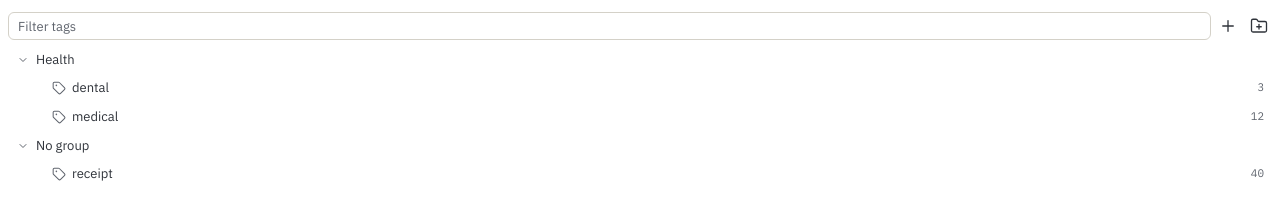
Test: TagTree › stays in the Tab order when the focused tag is filtered away
Step 1. Click the text "medical" → (95, 116), box [72,108,118,125]
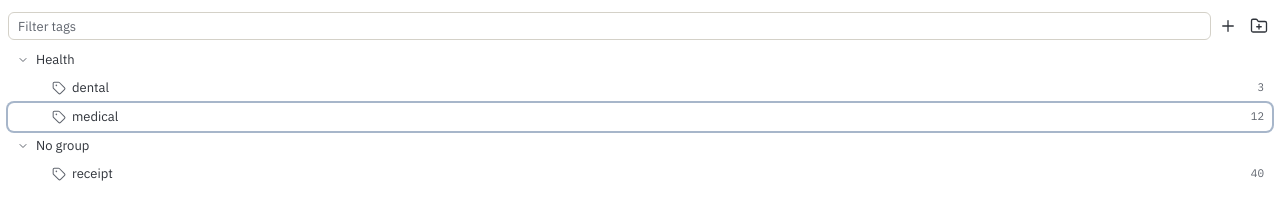
Step 2. Type "den" into the search field labelled "Filter tags" → (609, 26), box [8,12,1211,40]
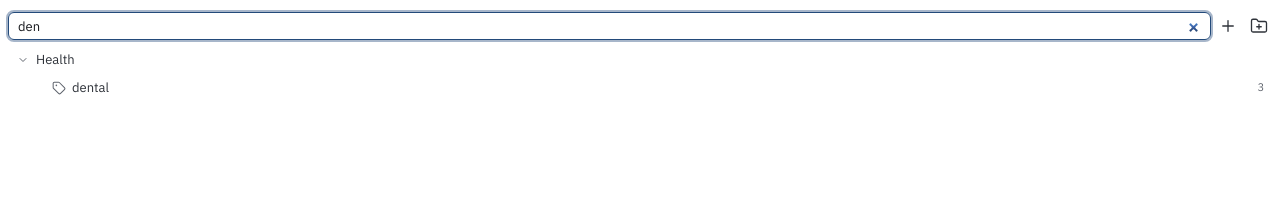
Expected: the text "medical" is gone
